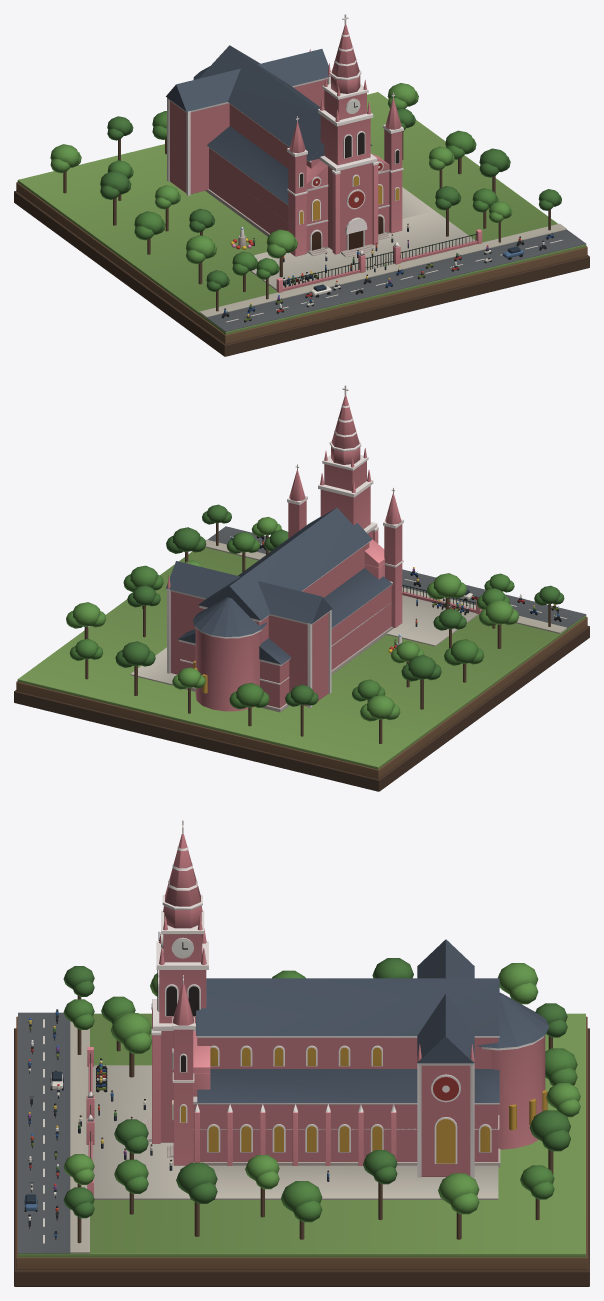
File: nha-tho-tan-dinh.glb
3 views of the same model, one above another, from view 1: azimuth 30°, elevation 25°; view 2: azimuth 150°, elevation 25°; view 3: azimuth 270°, elevation 25° (orthographic). The views are drawn at different scales.
Visible parts, largest first — view 1: TD_aisle; view 2: TD_aisle; view 3: TD_aisle.
Boxes of the visible parts, x1,y1,x2,y2 form: TD_aisle: (14, 14, 589, 356); TD_aisle: (14, 385, 589, 791); TD_aisle: (14, 820, 589, 1286).
Bounding box in the file's own units: 88 × 58.2 × 88.
Materials: 1 (1 with a texture image).
